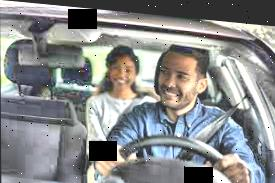seatbelt: (167, 80, 252, 162), (116, 83, 147, 122)
